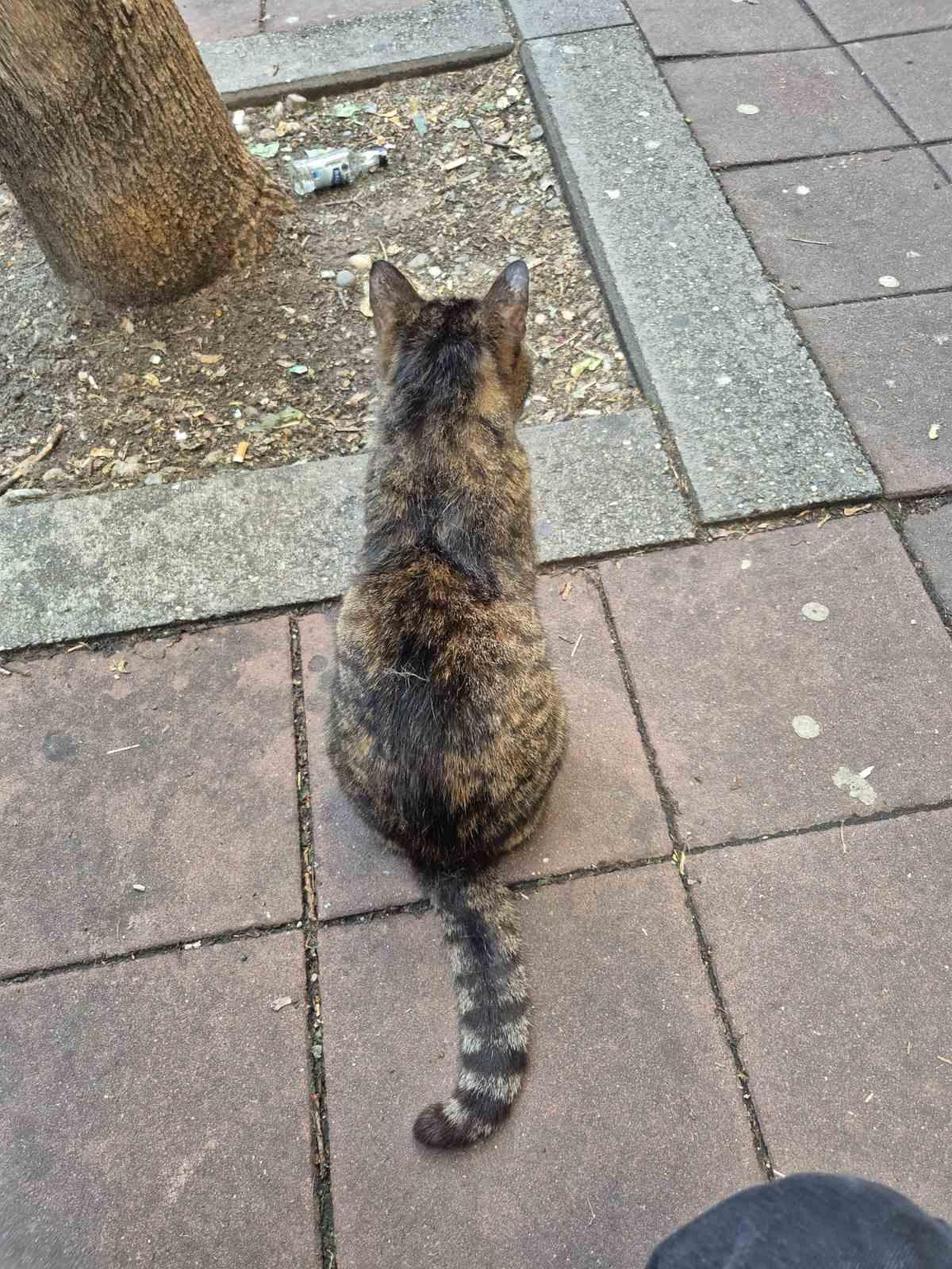macka: (319, 252, 566, 1156)
